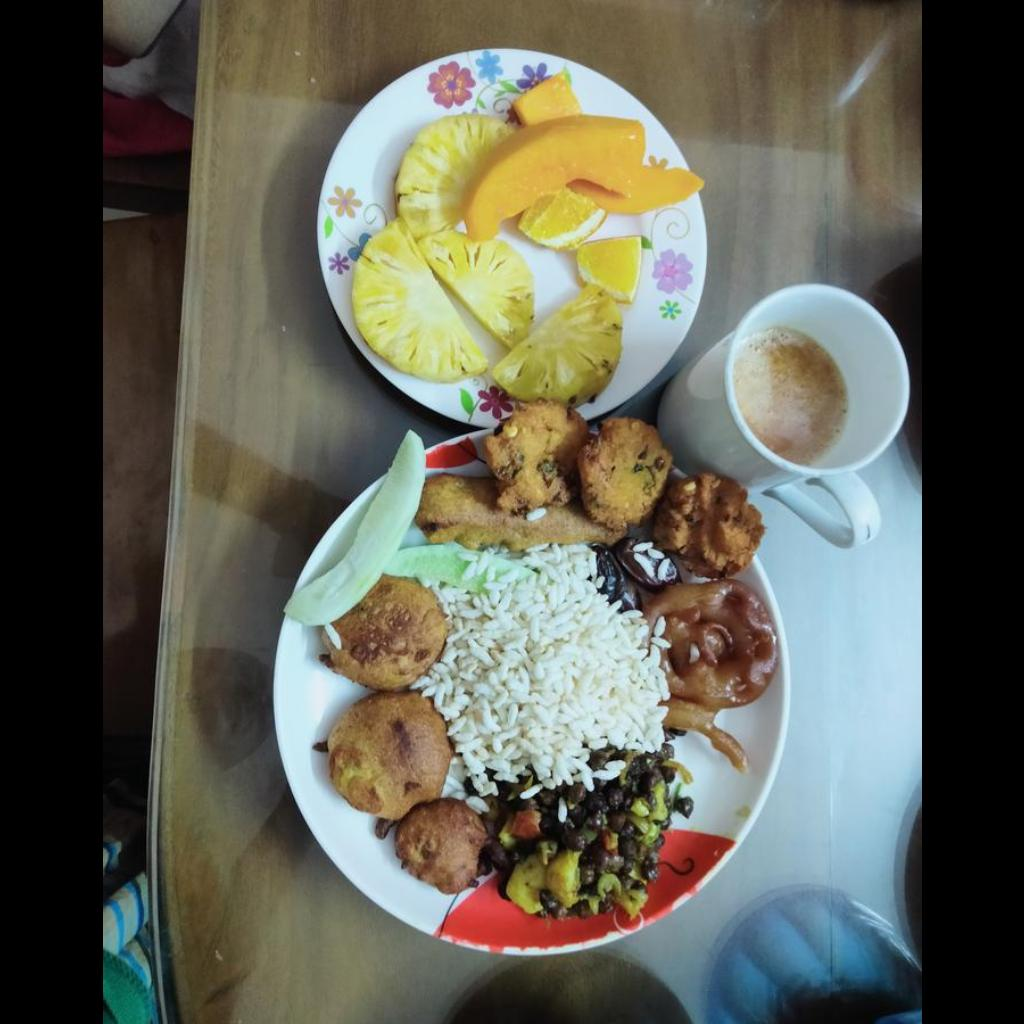beguni: (415, 474, 613, 551)
cha: (731, 328, 846, 465)
chola: (479, 736, 690, 920)
chop-alu: (322, 573, 499, 887)
cucumber: (285, 430, 529, 650)
mango: (457, 72, 702, 240)
orange: (517, 188, 606, 250), (574, 237, 642, 303)
peyaju: (487, 405, 762, 566)
pineapple: (393, 114, 532, 349), (351, 225, 483, 381), (490, 289, 620, 406)
puffed-rice: (410, 545, 667, 798)
sweets: (661, 588, 783, 767)
